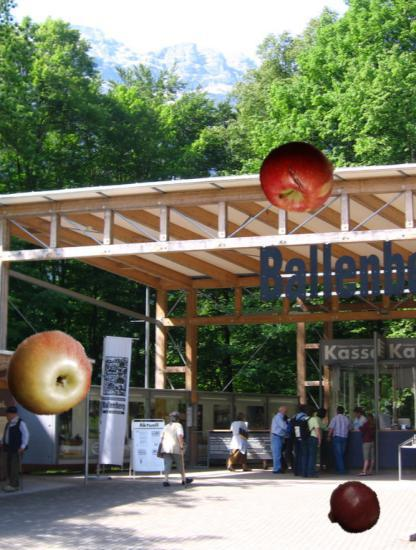Apple: (5, 330, 93, 418), (259, 139, 336, 216)
Pomegranate: (326, 481, 381, 536)
